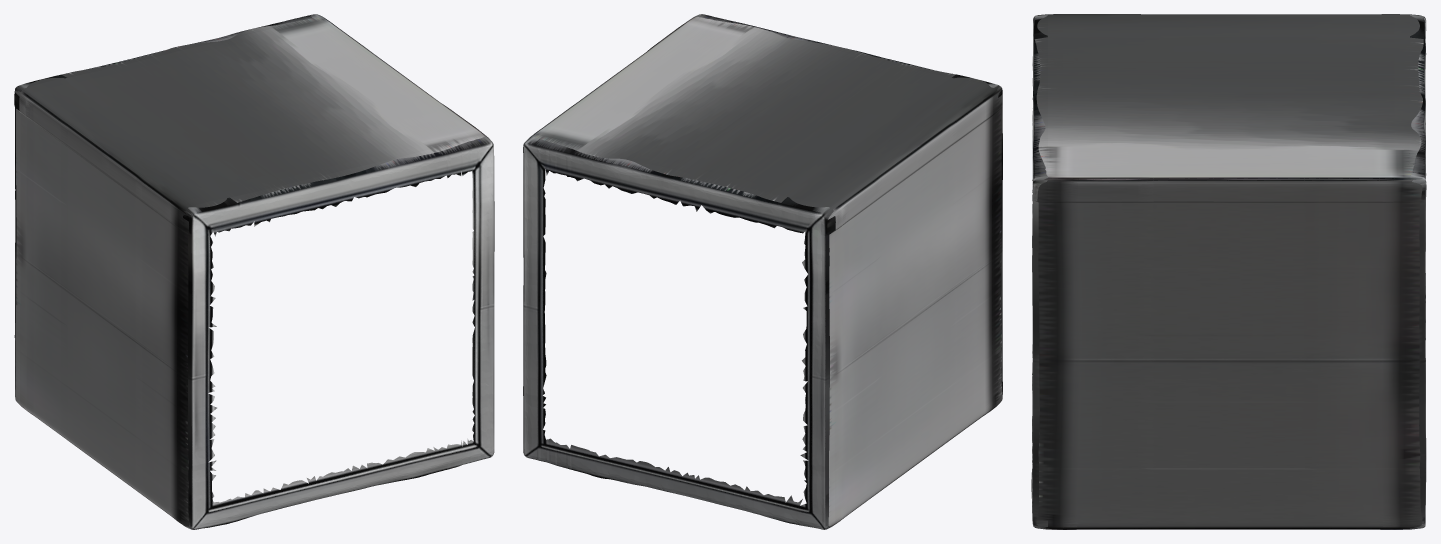
The model's file is shopfront-frame.glb.
3 views of the same model, side by side, from view 1: azimuth 30°, elevation 25°; view 2: azimuth 150°, elevation 25°; view 3: azimuth 270°, elevation 25° (orthographic). The views are drawn at different scales.
Visible parts, largest first — view 1: tmpbwt0wwet.ply; view 2: tmpbwt0wwet.ply; view 3: tmpbwt0wwet.ply.
Part boxes in pixels (x1,y1,x2,y2): tmpbwt0wwet.ply: (14, 14, 494, 529); tmpbwt0wwet.ply: (523, 14, 1002, 529); tmpbwt0wwet.ply: (1031, 14, 1426, 529).
Size of the model in its own units: 1 by 1 by 1.
1 material, 1 textured.
